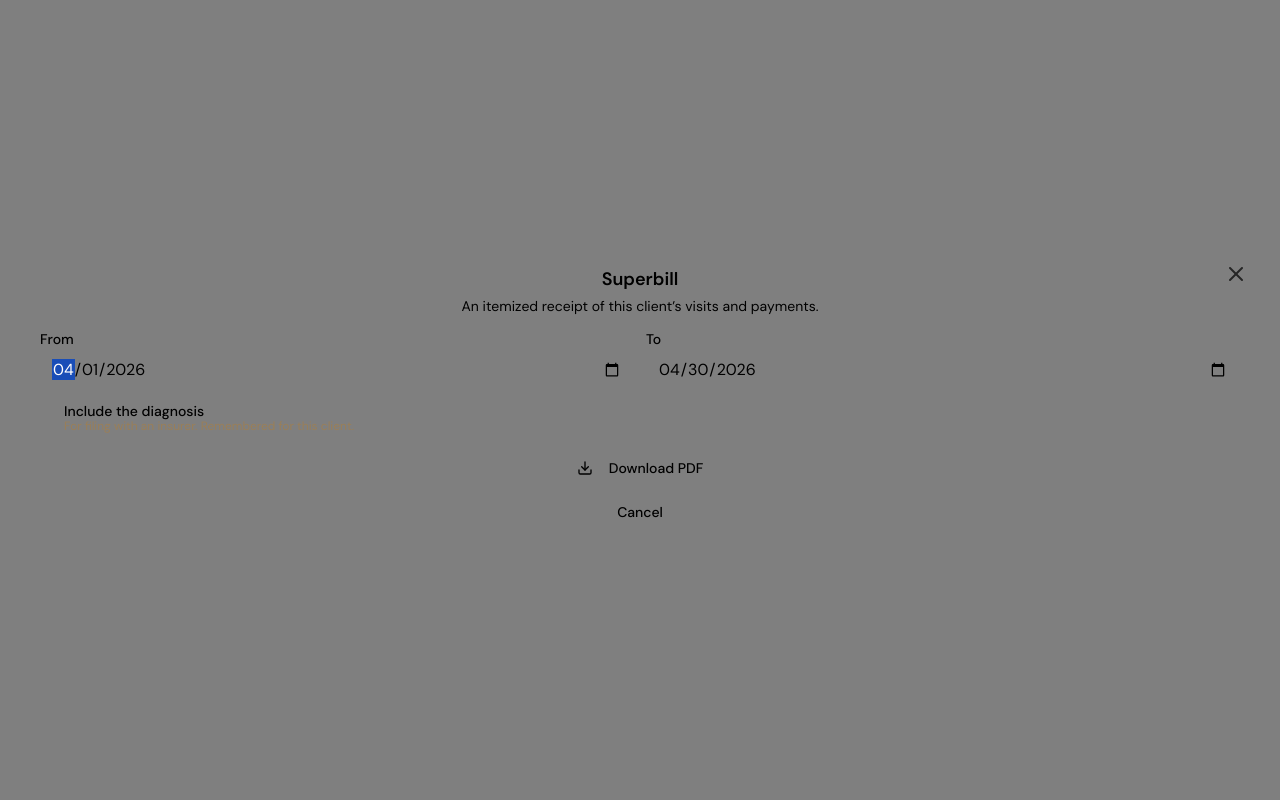
SuperbillDialog › lists every missing item when the superbill is refused
Click the button "Download PDF" at (640, 468), box [40, 450, 1240, 486]
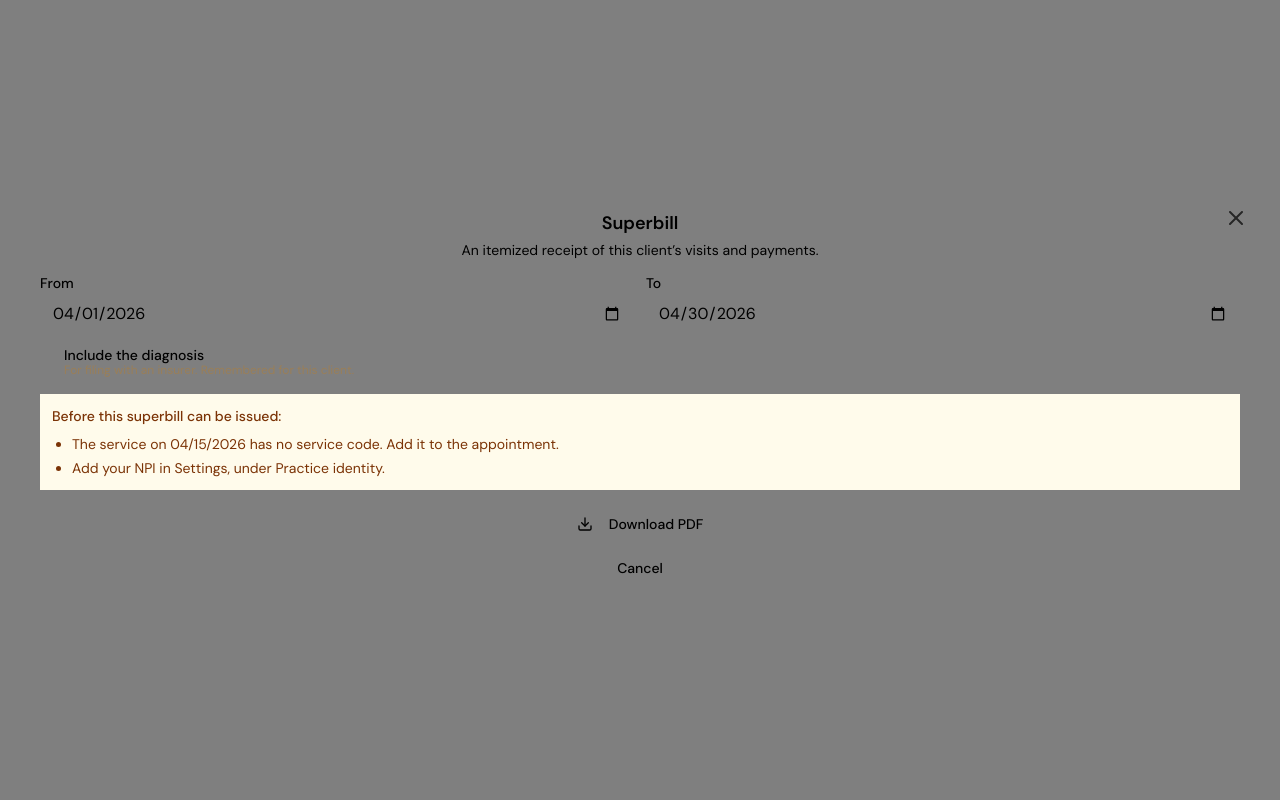
Result: the list named "What is missing" shows "has no service code" at [72, 435, 559, 453]
Result: the list named "What is missing" shows "Add your NPI in Settings, under Practice identity." at [72, 459, 385, 477]
